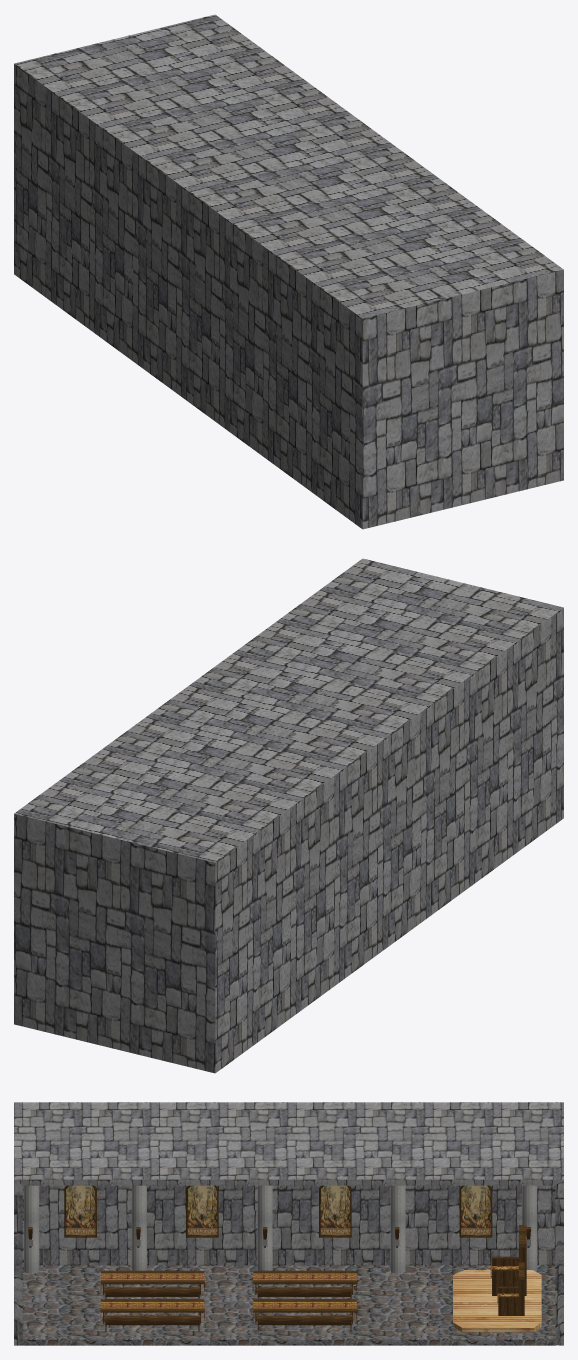
File: roomHall.dae
3 views of the same model, one above another, from view 1: azimuth 30°, elevation 25°; view 2: azimuth 150°, elevation 25°; view 3: azimuth 270°, elevation 25° (orthographic). The views are drawn at different scales.
Parts seen in each view (by area): view 1: Room; view 2: Room; view 3: Room, Cube, Dais, Picture, Picture_001, Picture_002, Picture_003, Table_002, Table_001, Table_003, Table, Pillar_004 (+10 smaller).
Boxes of the visible parts, left/top/right/bottom form: Room: left=14, top=14, right=563, bottom=529; Room: left=14, top=558, right=563, bottom=1073; Room: left=14, top=1102, right=563, bottom=1345; Cube: left=19, top=1265, right=555, bottom=1345; Dais: left=453, top=1270, right=541, bottom=1332; Picture: left=459, top=1185, right=492, bottom=1237; Picture_001: left=319, top=1185, right=351, bottom=1237; Picture_002: left=186, top=1185, right=218, bottom=1237; Picture_003: left=64, top=1185, right=96, bottom=1237; Table_002: left=100, top=1299, right=204, bottom=1323; Table_001: left=252, top=1299, right=356, bottom=1323; Table_003: left=100, top=1271, right=204, bottom=1294; Table: left=252, top=1271, right=356, bottom=1294; Pillar_004: left=24, top=1185, right=39, bottom=1273.
Bounding box in the file's own units: 10 × 30 × 10.03.
8 materials, 8 textured.
